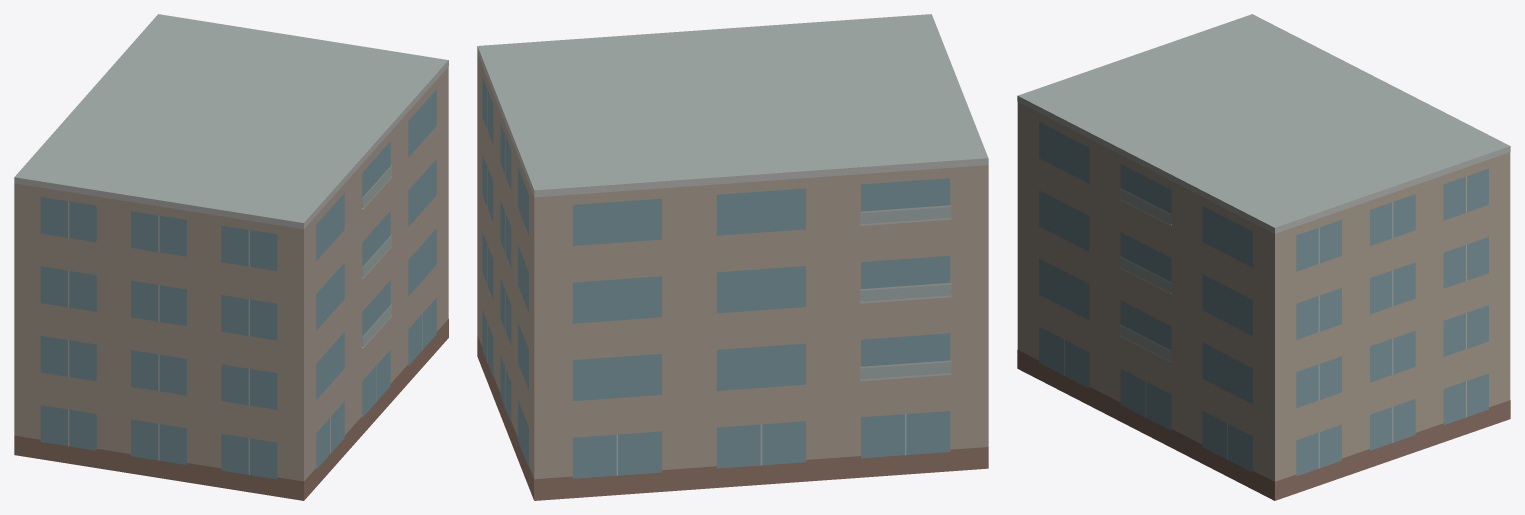
Rendered from survey-upis-32535136.glb.
3 renders of one model, left to right at view 1: azimuth 30°, elevation 25°; view 2: azimuth 150°, elevation 25°; view 3: azimuth 270°, elevation 25°, orthographic. The views are drawn at different scales.
Parts seen in each view (by area): view 1: survey-upis-32535136.tmp; view 2: survey-upis-32535136.tmp; view 3: survey-upis-32535136.tmp.
Boxes of the visible parts, x1,y1,x2,y2 form: survey-upis-32535136.tmp: (14,14,448,500); survey-upis-32535136.tmp: (477,14,988,500); survey-upis-32535136.tmp: (1017,14,1510,500).
Bounding box in the file's own units: 18.4 × 10.95 × 17.92.
